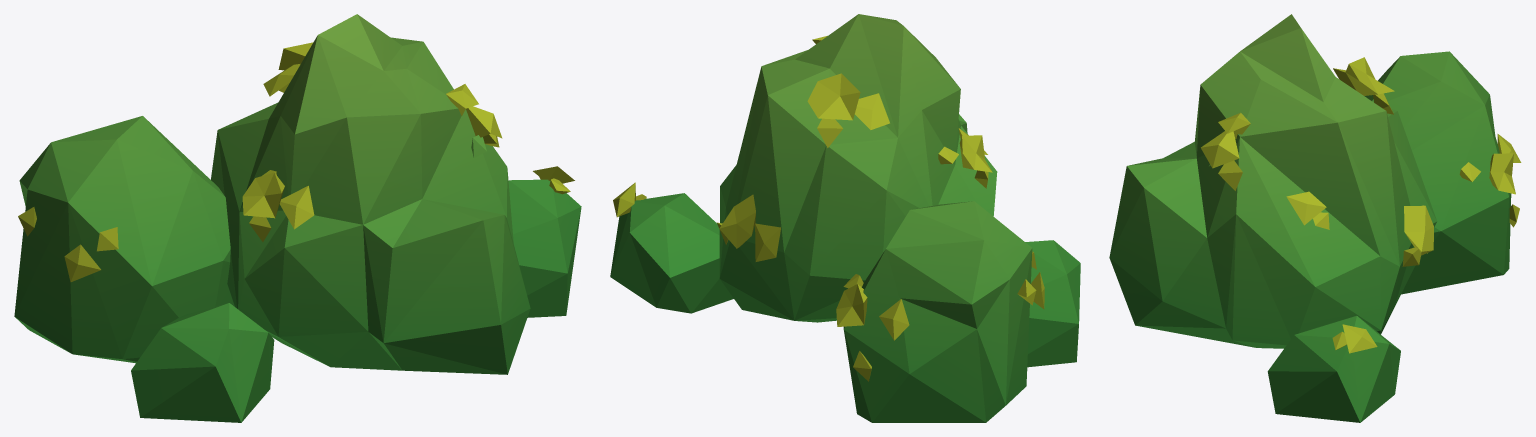
Rendered from flowers_03.fbx.
3 views of the same model, side by side, from view 1: azimuth 30°, elevation 25°; view 2: azimuth 150°, elevation 25°; view 3: azimuth 270°, elevation 25° (orthographic). The views are drawn at different scales.
Parts seen in each view (by area): view 1: Flowers_01.001; view 2: Flowers_01.001; view 3: Flowers_01.001.
Boxes of the visible parts, box(x1,y1,x2,y2) form: Flowers_01.001: box(14, 14, 581, 422); Flowers_01.001: box(610, 14, 1080, 422); Flowers_01.001: box(1109, 14, 1521, 422).
Bounding box in the file's own units: 1.99 × 1.29 × 1.57.
